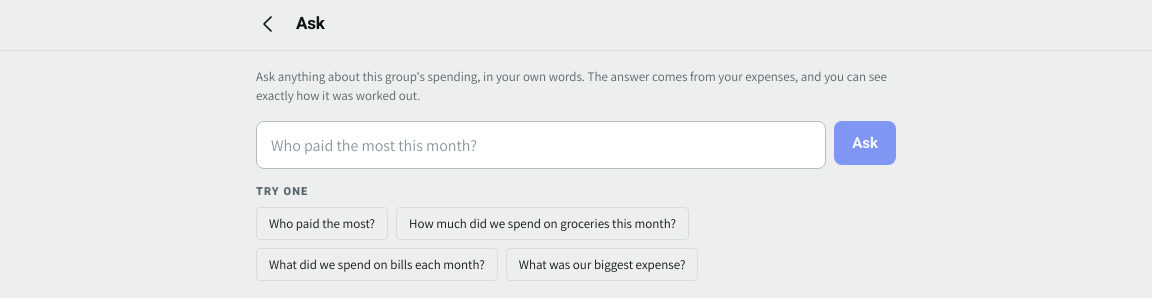
Test case: asking a question (9.9) › without an API key it says asking is not set up
Click the button "Who paid the most?": [322, 224] box [256,207,388,240]
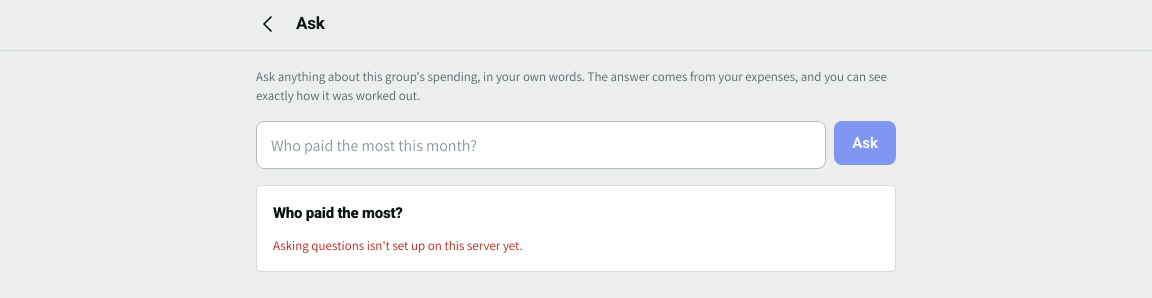
Expected: the message reads "Asking questions isn't set up on this server yet.", [273,237,523,254]
